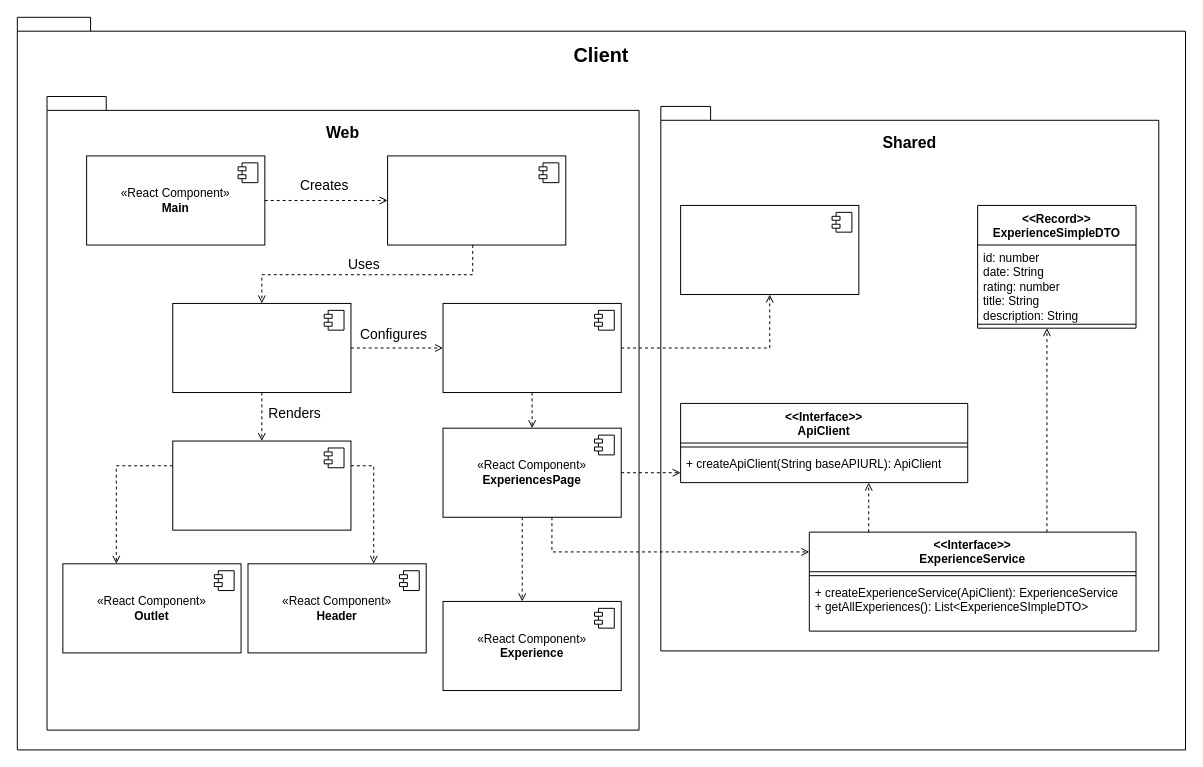
This 1203x767 diagram has some shape labels left out. The shapes that lost their labels are listed below. From the top down, each one's centre as x and y in pixels, then its label:
point (476, 200): «React Component» RouterProvider
point (769, 249): Constants
point (261, 347): «React Component» Router
point (531, 347): «Constants» Routes
point (261, 485): «React Component» App
